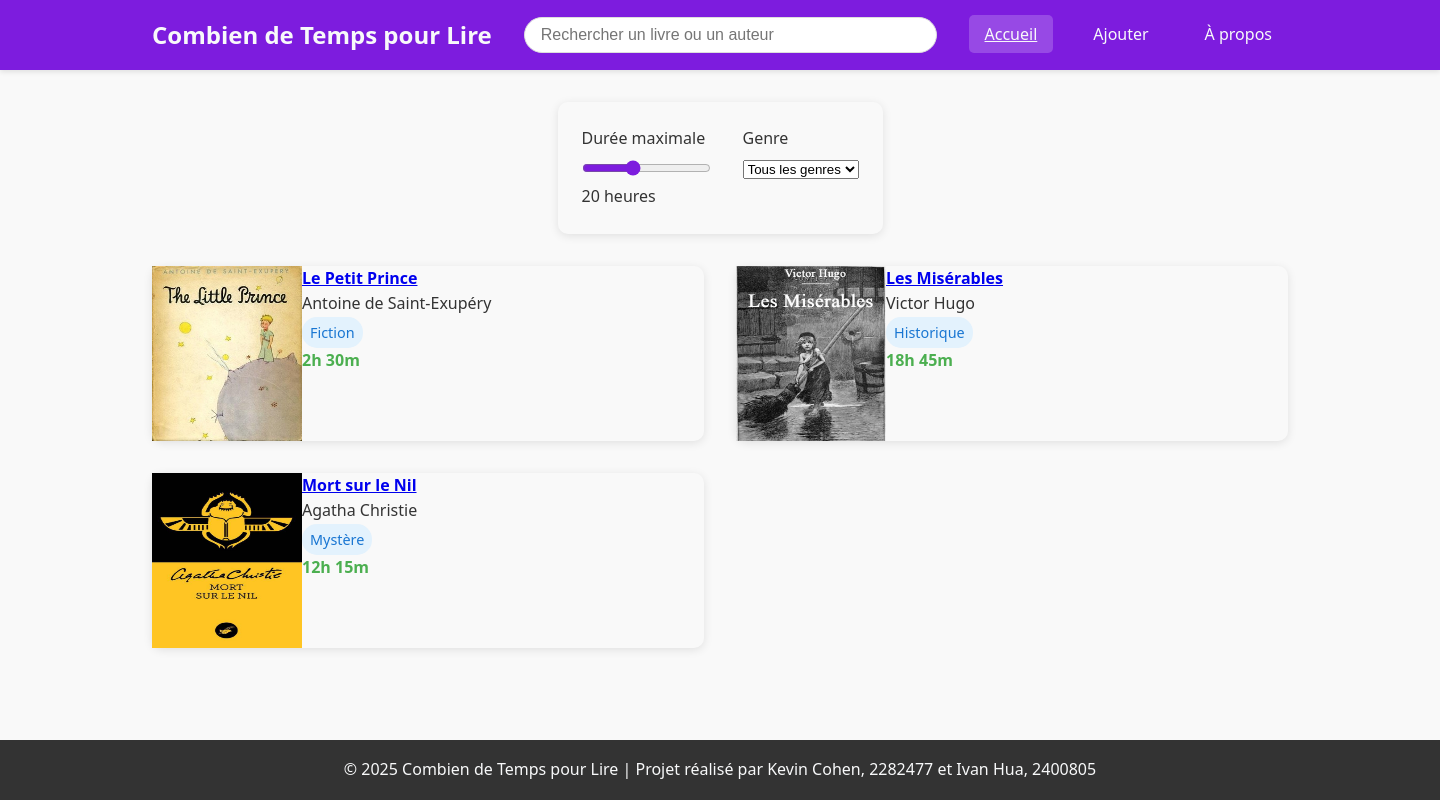
Main Page › Filter Section › should update time value when changing the range input
Set the slider with id "max-time" to "15" at (622, 168), box [582, 160, 711, 176]
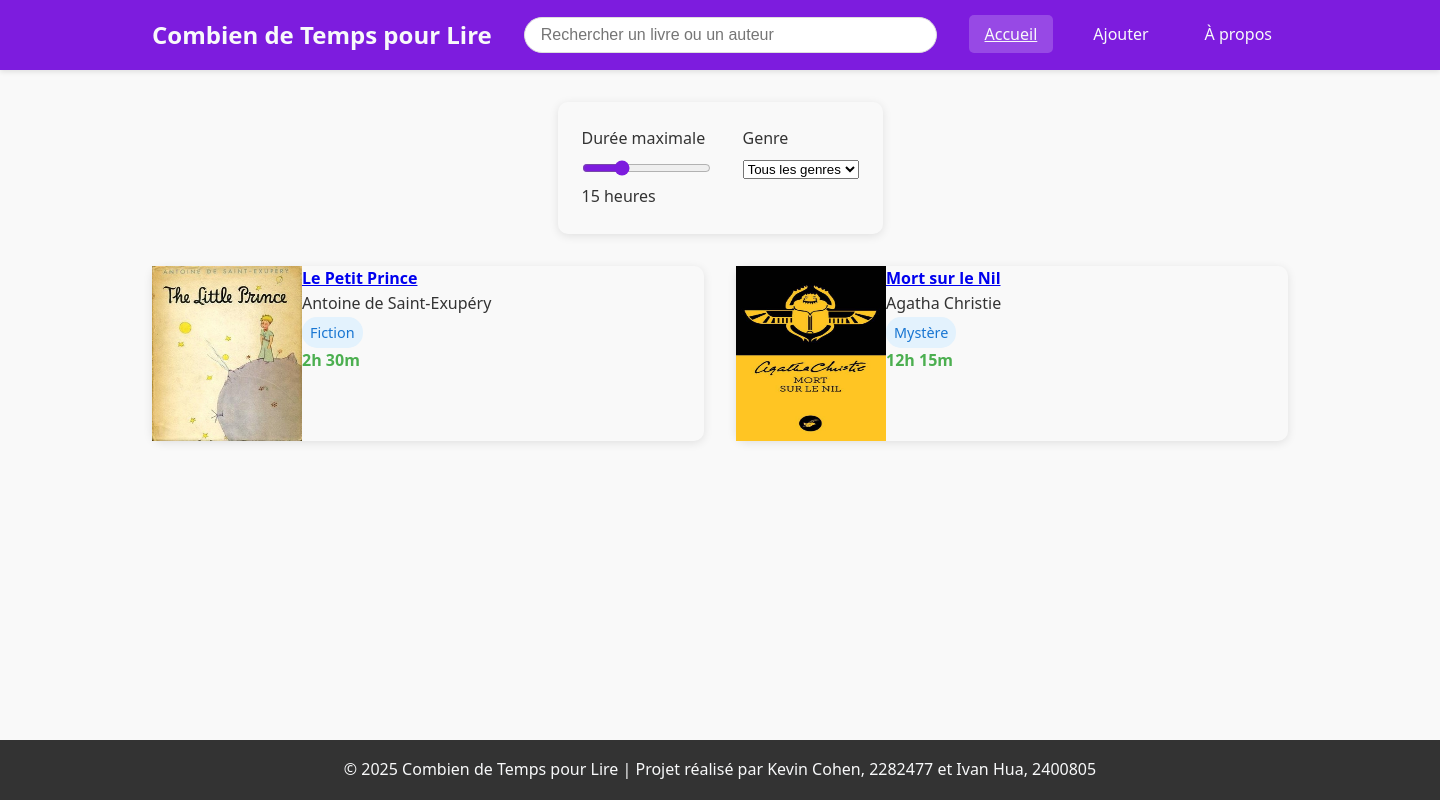
Now the text with id "time-display" reads "15 heures", box [582, 185, 656, 207]
